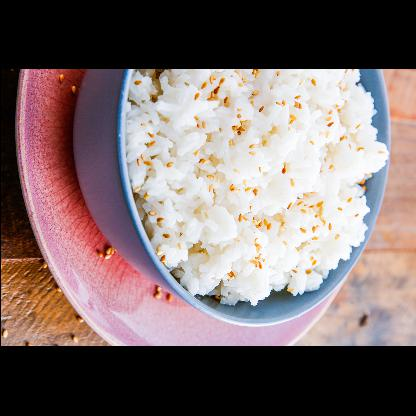white rice: (126, 70, 388, 306)
